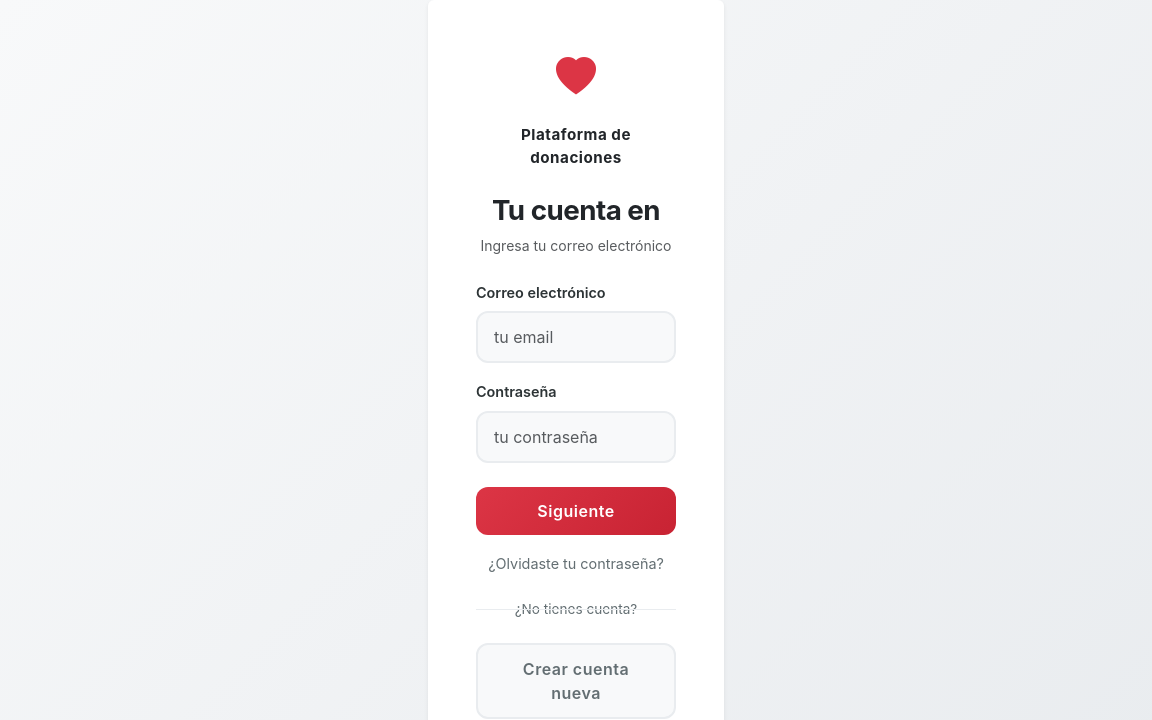
Test case: LoginPage › shows loading state during form submission
Type "test@example.com" into the field labelled "Correo electrónico". click: (576, 338)
box: [476, 312, 676, 364]
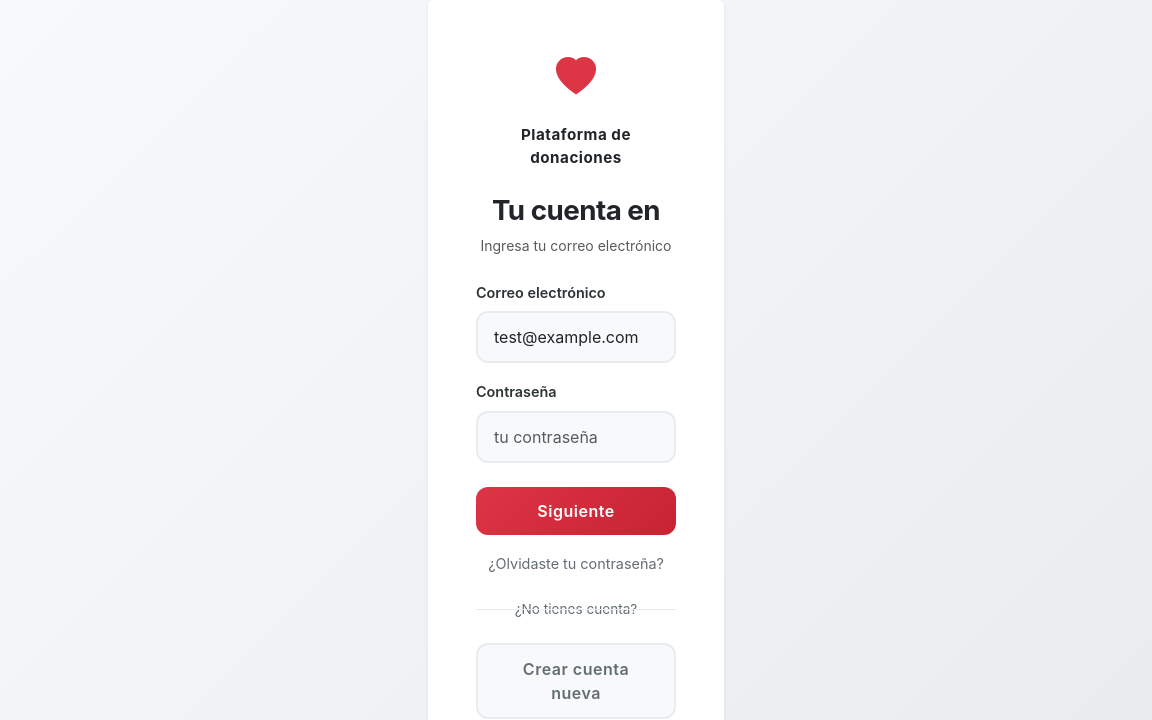
Type "password123" into the password field labelled "Contraseña". click: (576, 437)
box: [476, 411, 676, 463]
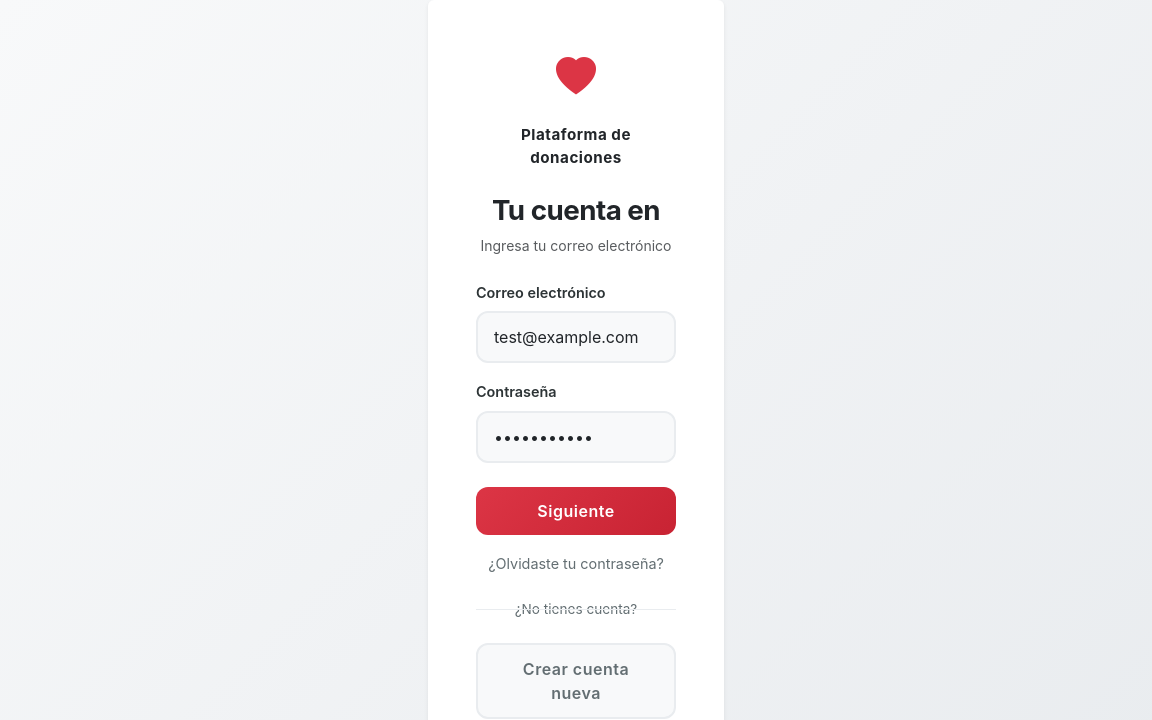
Click the button "Siguiente". click: (576, 511)
box: [476, 487, 676, 535]
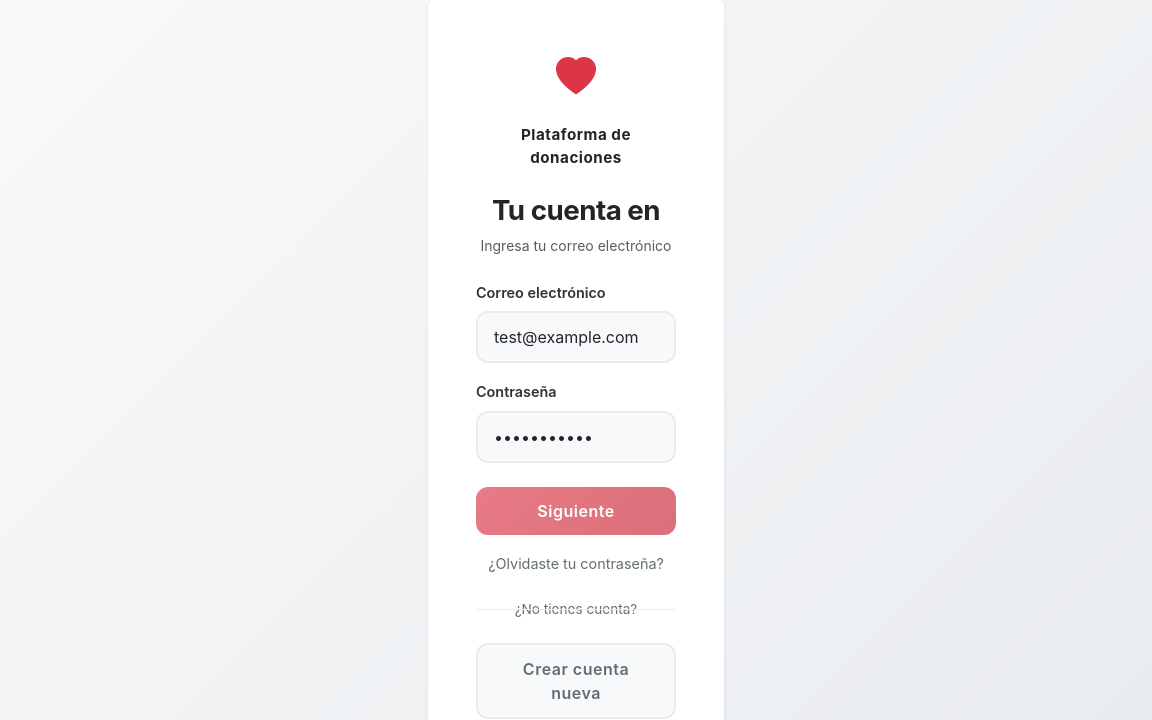
Expected: the button "Siguiente" is disabled, [476, 487, 676, 535]
